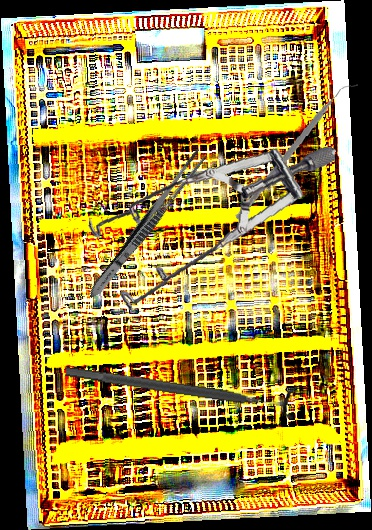Chopper: (234, 71, 361, 233)
Dressing Forceps: (84, 146, 209, 303)
Fixation Ring: (63, 353, 298, 421)
Speculum: (80, 123, 336, 330)
